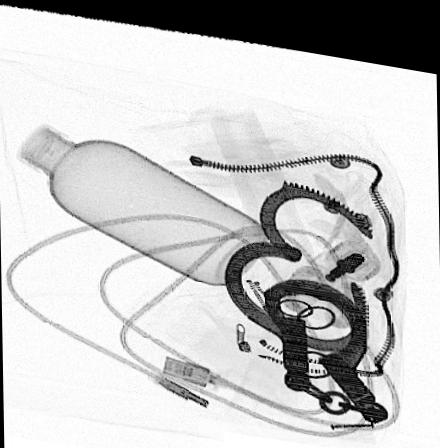HandCuffs: (219, 167, 392, 413)
